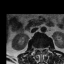CCS_normal: (40, 45, 42, 54)
LFS_stenosis: (44, 44, 46, 51)
LLS_normal: (42, 44, 44, 52)
RFS_severe_stenosis: (35, 44, 37, 52)
RLS_normal: (37, 45, 40, 53)
